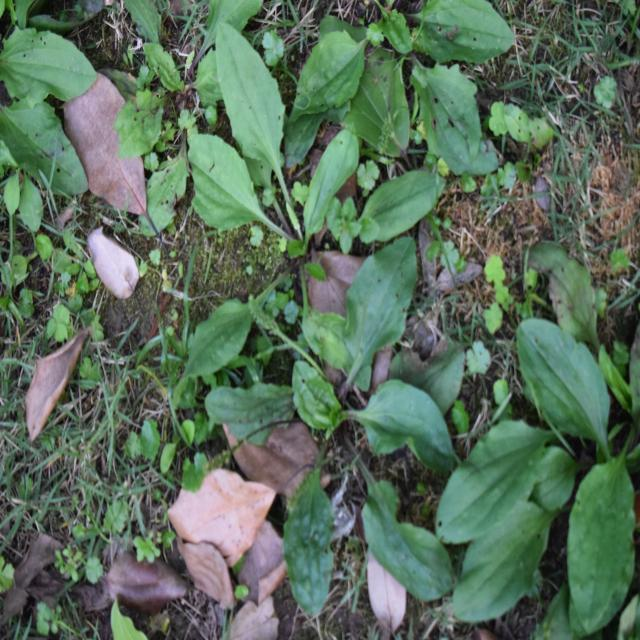plantain: (242, 266, 468, 596), (171, 55, 425, 265)
